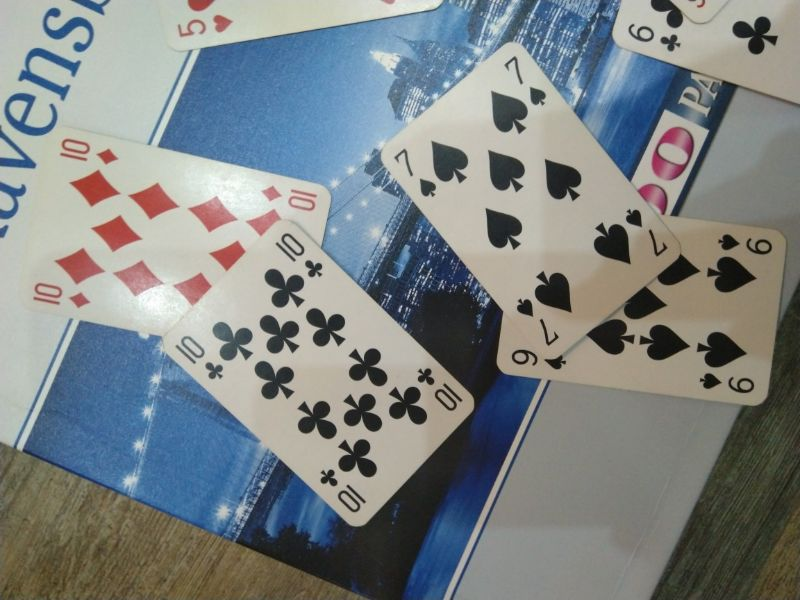5h: (172, 10, 239, 44)
6c: (620, 17, 691, 61)
7s: (386, 140, 443, 202), (508, 290, 565, 350), (498, 51, 553, 113), (619, 200, 673, 260)
9s: (502, 341, 578, 381), (712, 227, 780, 263), (696, 364, 760, 401)
Tc: (169, 330, 229, 385), (270, 226, 328, 282), (411, 360, 468, 416), (315, 466, 373, 521)
Td: (256, 176, 325, 220), (28, 276, 98, 316), (56, 132, 125, 172)
